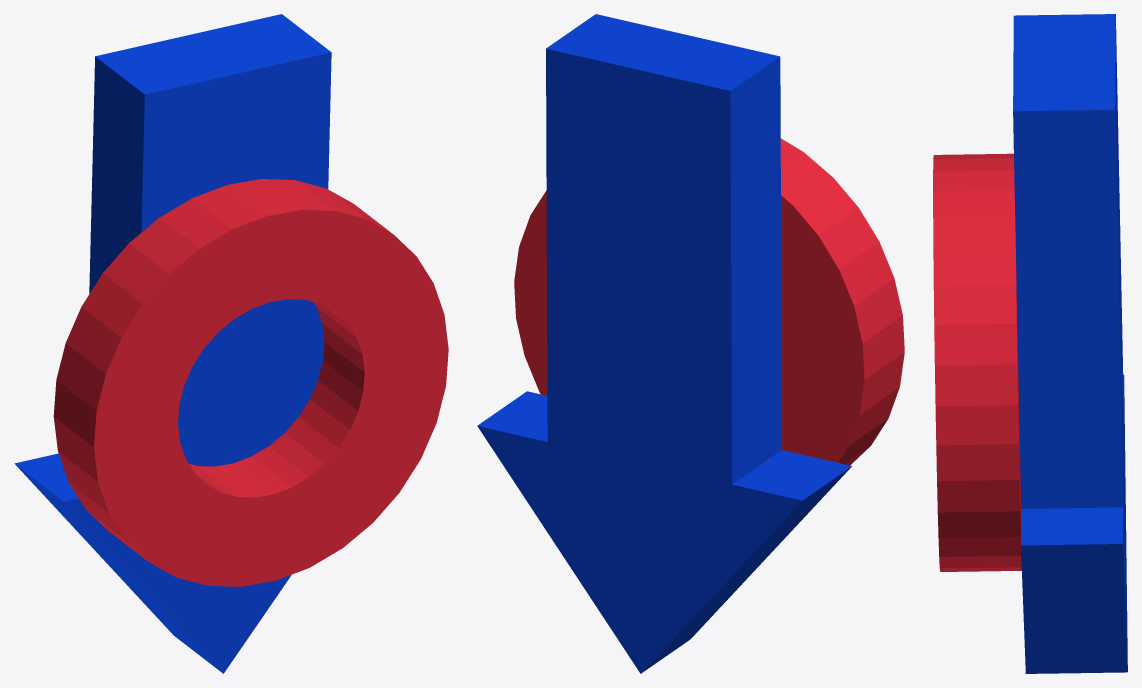
File: flecha.glb
3 renders of one model, left to right at view 1: azimuth 30°, elevation 25°; view 2: azimuth 150°, elevation 25°; view 3: azimuth 270°, elevation 25°, orthographic. The views are drawn at different scales.
Parts seen in each view (by area): view 1: Circle, Arrow; view 2: Arrow, Circle; view 3: Arrow, Circle.
Boxes of the visible parts, x1,y1,x2,y2 form: Circle: (53, 179, 448, 586); Arrow: (14, 14, 331, 673); Arrow: (477, 14, 851, 673); Circle: (514, 138, 904, 465); Arrow: (1013, 14, 1127, 673); Circle: (933, 153, 1021, 571).
Bounding box in the file's own units: 3.08 × 5.04 × 1.44.
